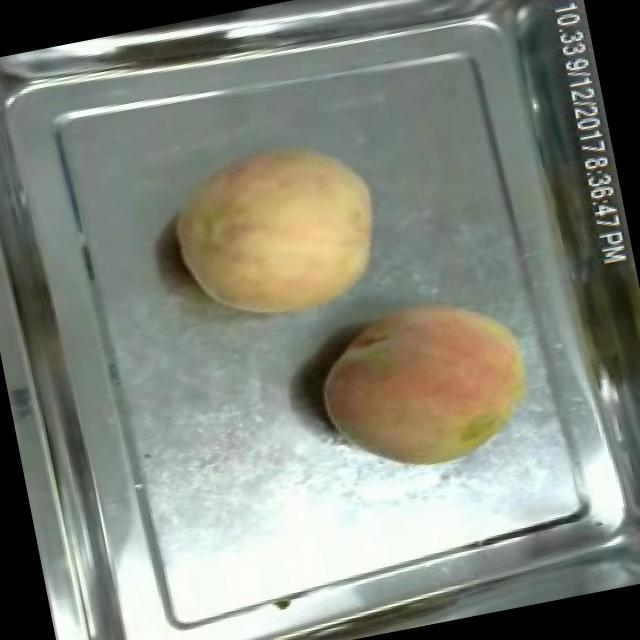Fruit: (298, 272, 556, 494), (158, 124, 402, 342)
